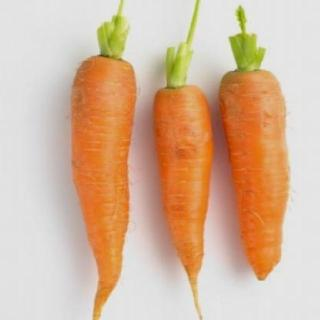carrot: (55, 44, 149, 318), (220, 63, 298, 290), (154, 74, 220, 308)
